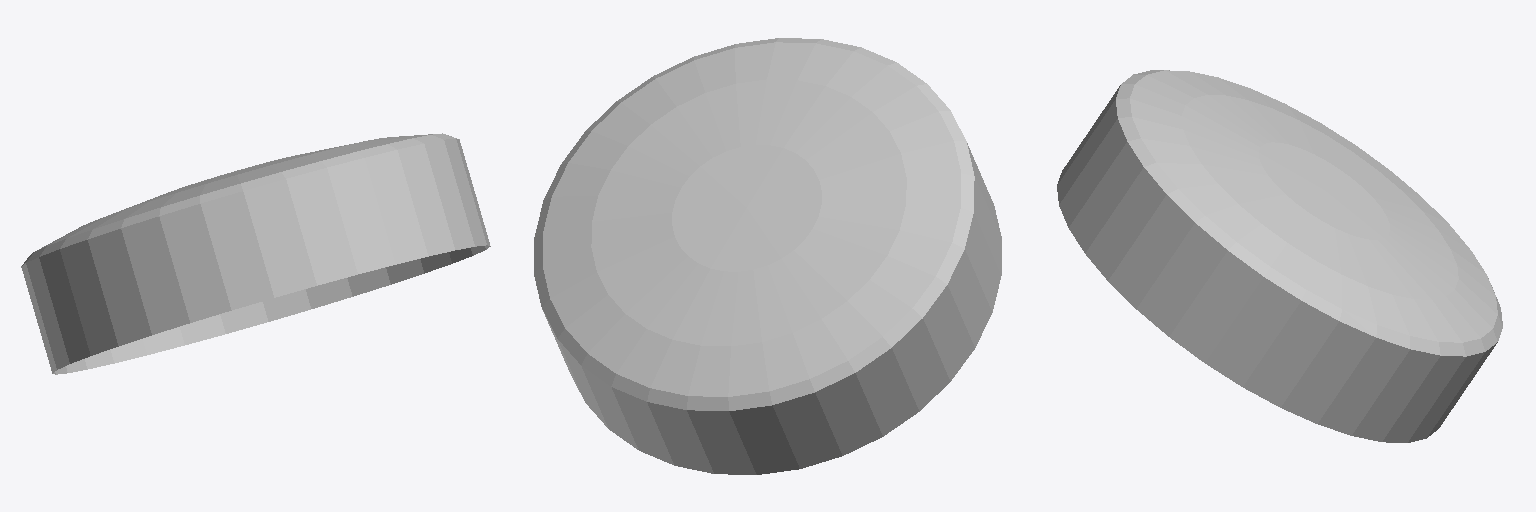
File: oculus_quest_pro_controller_left_button_y.obj
3 views of the same model, side by side, from view 1: azimuth 30°, elevation 25°; view 2: azimuth 150°, elevation 25°; view 3: azimuth 270°, elevation 25° (orthographic).
Parts seen in each view (by area): view 1: oculus_quest_pro_controller_left_button_y; view 2: oculus_quest_pro_controller_left_button_y; view 3: oculus_quest_pro_controller_left_button_y.
Boxes of the visible parts, x1,y1,x2,y2 form: oculus_quest_pro_controller_left_button_y: [21, 133, 490, 374]; oculus_quest_pro_controller_left_button_y: [534, 38, 1001, 474]; oculus_quest_pro_controller_left_button_y: [1057, 70, 1502, 442].
Bounding box in the file's own units: 0.01 × 0.0074 × 0.0098.